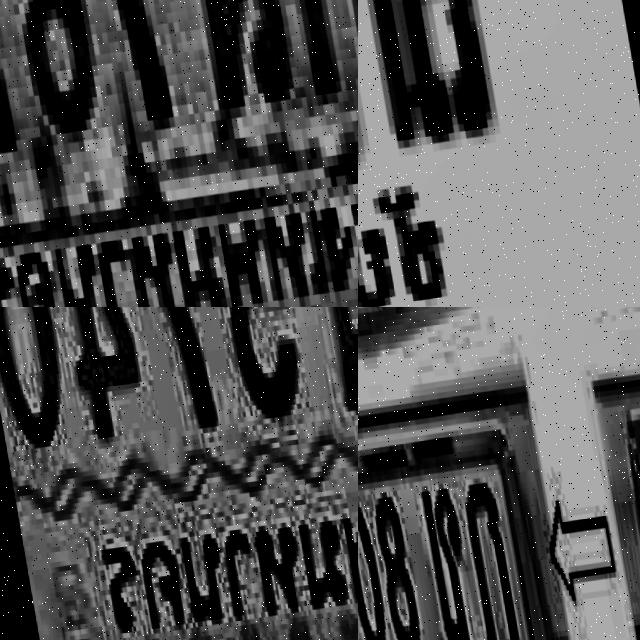license-plate: (0, 307, 358, 640), (0, 0, 358, 307), (358, 0, 640, 307), (358, 399, 572, 640)
